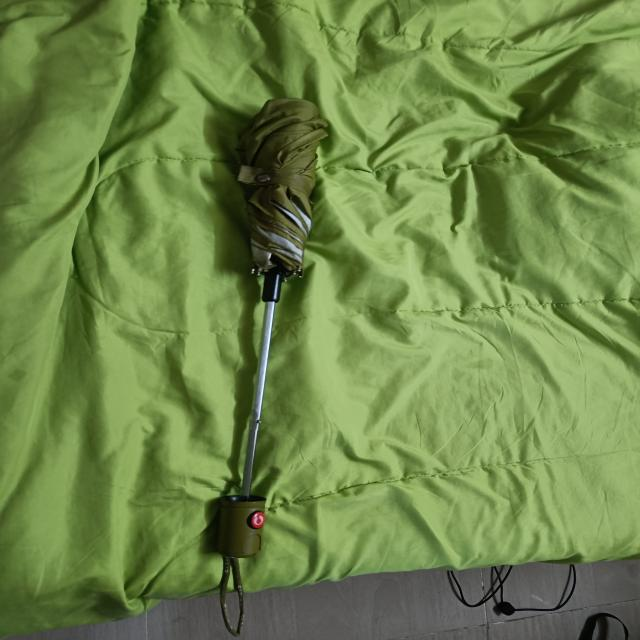umbrella: (227, 100, 328, 560)
